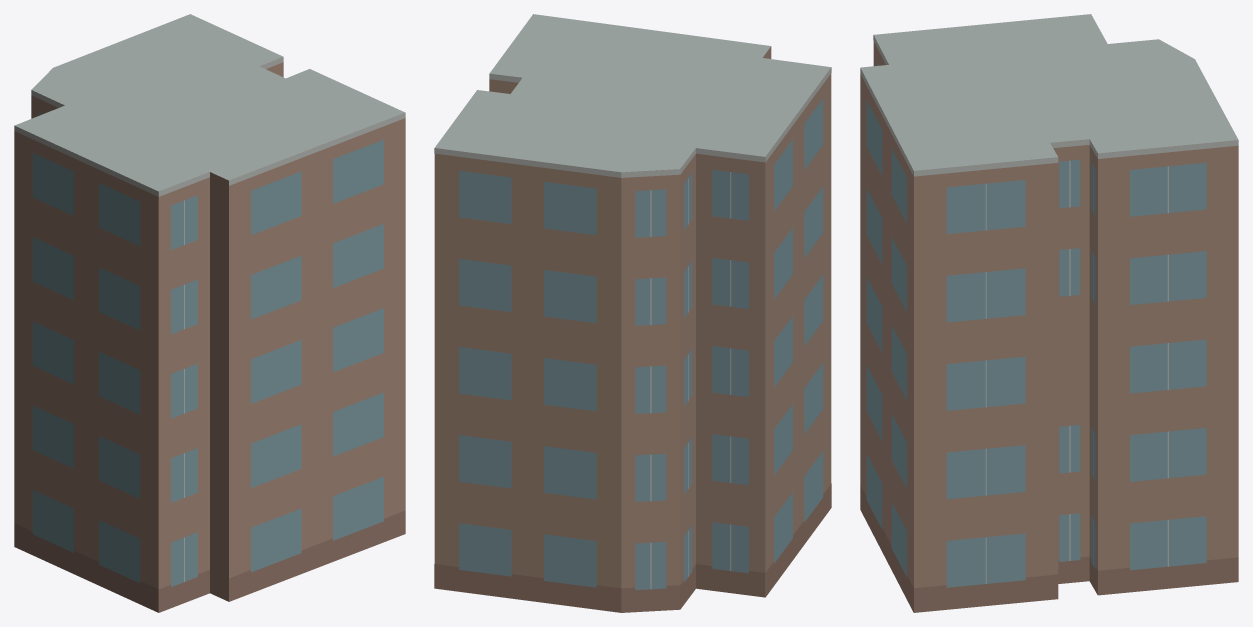
File: survey-upis-32833012.glb
3 views of the same model, side by side, from view 1: azimuth 30°, elevation 25°; view 2: azimuth 150°, elevation 25°; view 3: azimuth 270°, elevation 25° (orthographic). The views are drawn at different scales.
Parts seen in each view (by area): view 1: survey-upis-32833012.tmp; view 2: survey-upis-32833012.tmp; view 3: survey-upis-32833012.tmp.
Boxes of the visible parts, left/top/right/bottom form: survey-upis-32833012.tmp: left=14, top=14, right=405, bottom=612; survey-upis-32833012.tmp: left=434, top=14, right=831, bottom=612; survey-upis-32833012.tmp: left=860, top=14, right=1238, bottom=612.
Size of the model in its own units: 14.67 by 19.25 by 14.95.
